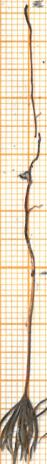flower: (0, 390, 44, 464)
root: (18, 4, 44, 269)
stem: (19, 266, 43, 395)
